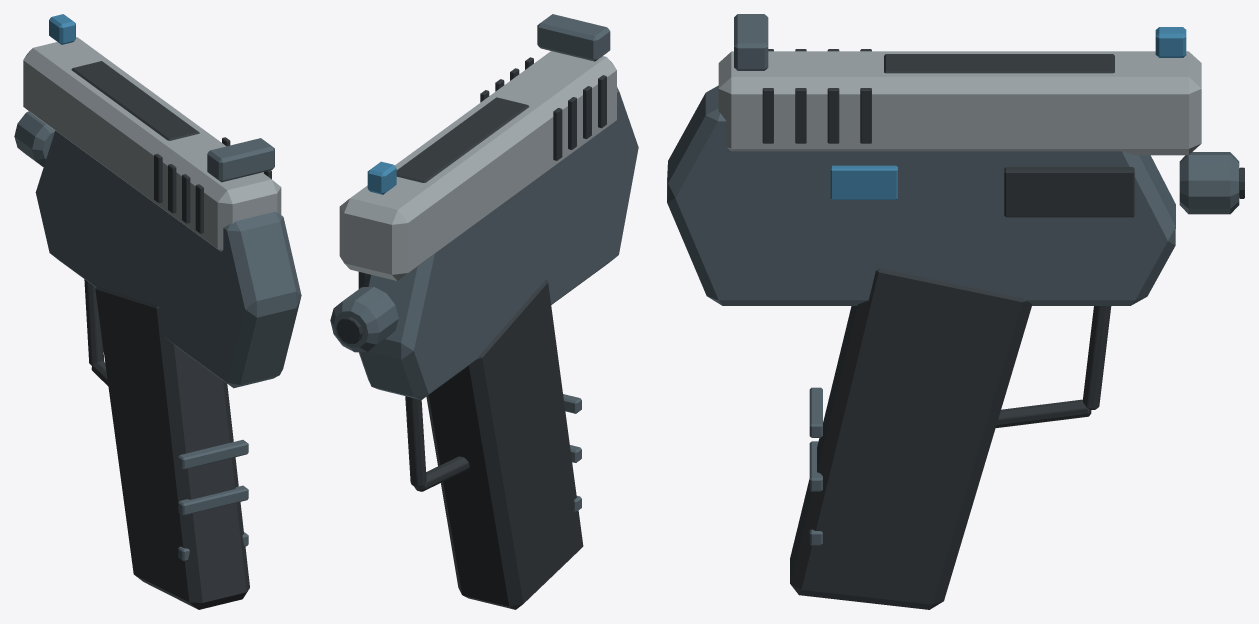
The model's file is wpn_002_p9_pistol.glb.
3 renders of one model, left to right at view 1: azimuth 30°, elevation 25°; view 2: azimuth 150°, elevation 25°; view 3: azimuth 270°, elevation 25°, orthographic. The views are drawn at different scales.
Visible parts, largest first — view 1: Mesh; view 2: Mesh; view 3: Mesh.
Part boxes in pixels (bbox=[...]): Mesh: bbox=[14, 14, 301, 609]; Mesh: bbox=[330, 14, 638, 609]; Mesh: bbox=[667, 14, 1244, 609].
Bounding box in the file's own units: 0.042 × 0.2618 × 0.2411.
